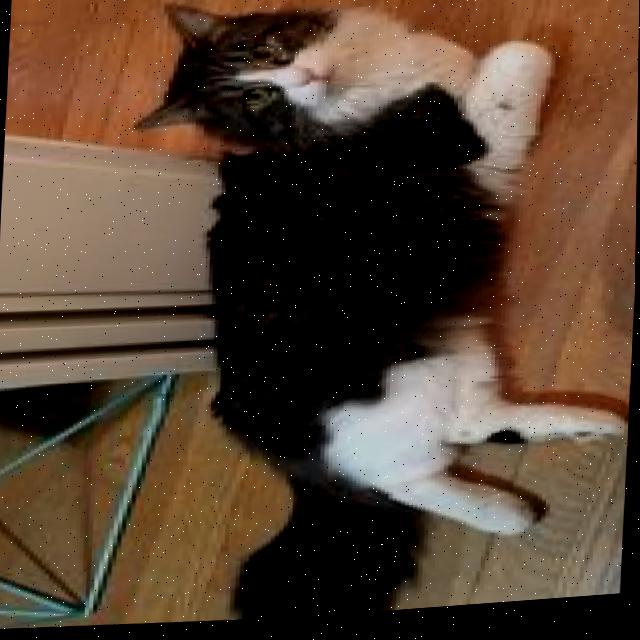Maine Coon: (102, 0, 640, 634)
